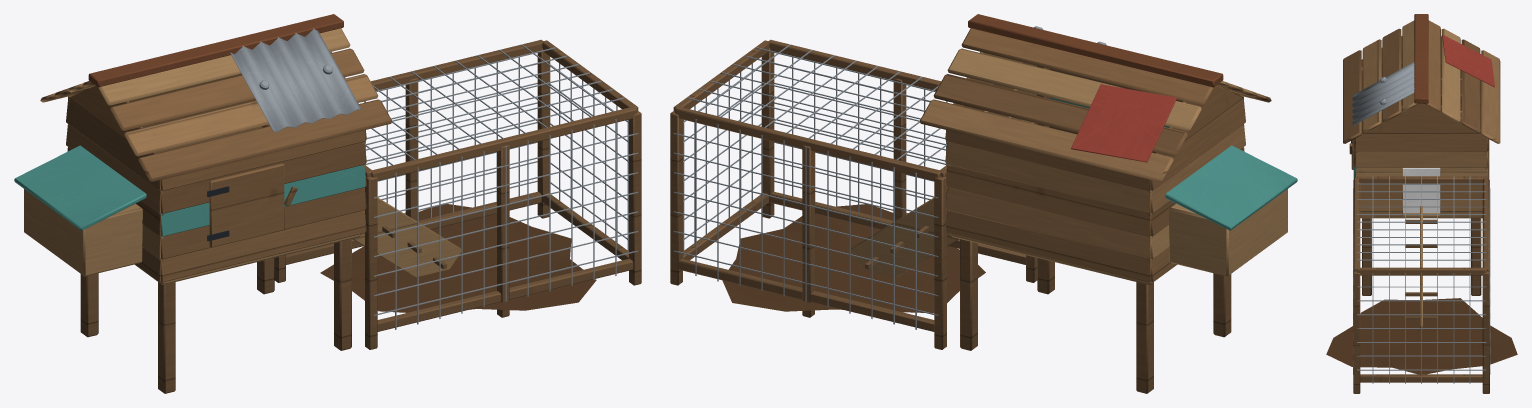
Rendered from chicken_coop.glb.
3 renders of one model, left to right at view 1: azimuth 30°, elevation 25°; view 2: azimuth 150°, elevation 25°; view 3: azimuth 270°, elevation 25°, orthographic. The views are drawn at different scales.
Visible parts, largest first — view 1: chicken_coop; view 2: chicken_coop; view 3: chicken_coop.
Boxes of the visible parts, x1,y1,x2,y2 form: chicken_coop: (14,14,641,393); chicken_coop: (670,14,1297,393); chicken_coop: (1326,14,1517,393).
Bounding box in the file's own units: 3.11 × 1.61 × 1.33.
Materials: 18 (18 with a texture image).
